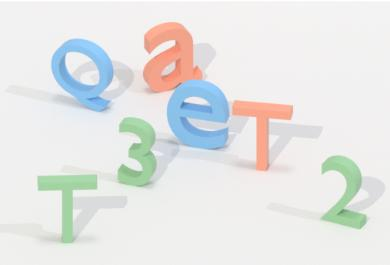2: (318, 151, 369, 233)
3: (115, 113, 158, 190)
Q: (48, 36, 116, 115)
T: (230, 97, 297, 176), (33, 172, 102, 247)
a: (142, 18, 206, 95)
e: (164, 79, 232, 152)
